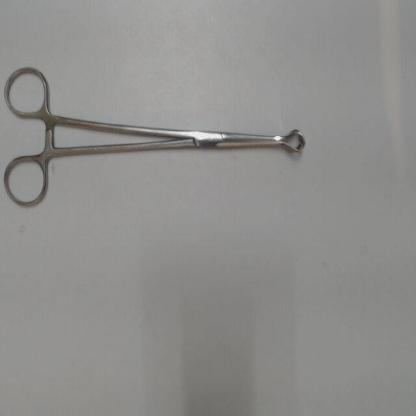8 Babcock Tissue Forceps: (2, 57, 310, 211)
